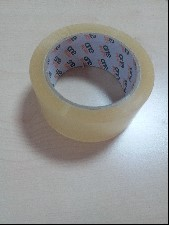band: (28, 19, 154, 150)
